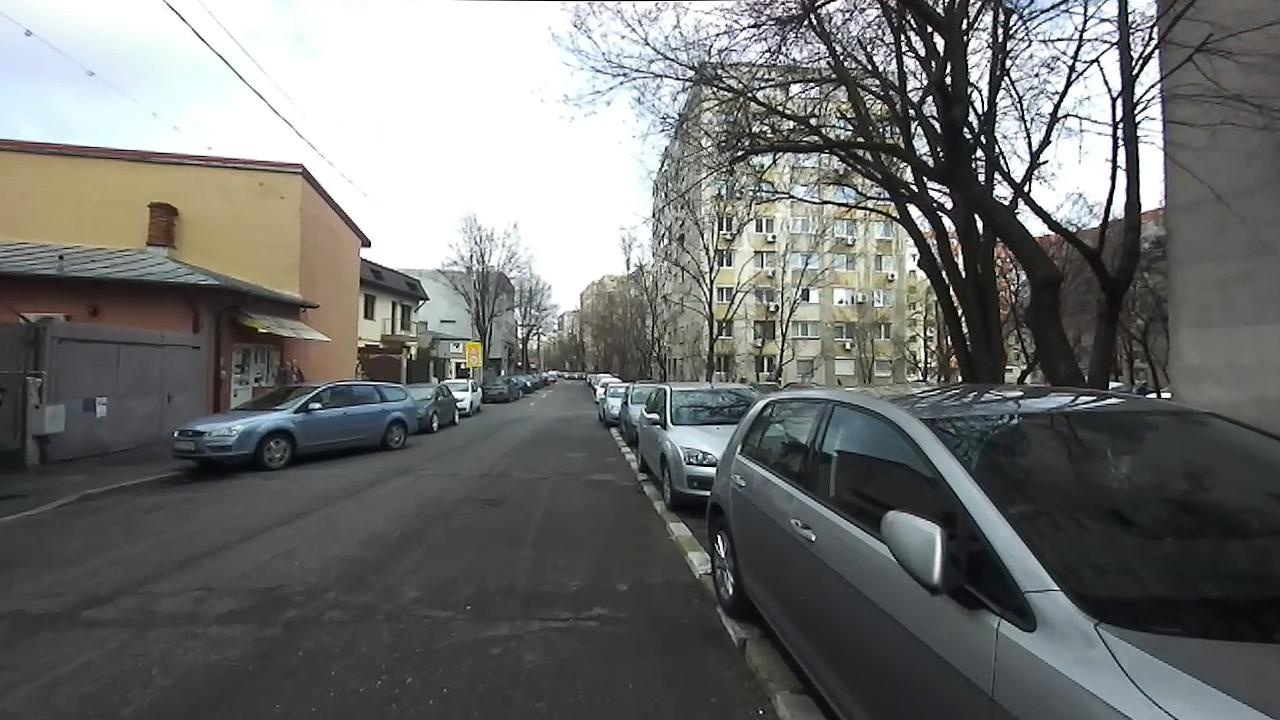pothole: (510, 606, 607, 631), (472, 495, 497, 509)
